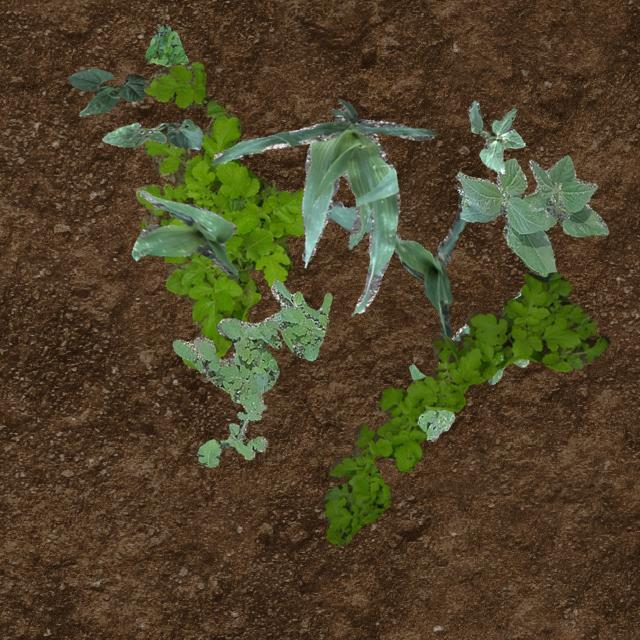crop: (208, 99, 434, 312), (326, 185, 466, 336), (454, 154, 608, 276), (130, 188, 237, 276), (468, 100, 524, 174), (66, 68, 146, 116), (450, 290, 520, 340), (100, 118, 202, 148)
weed: (322, 270, 608, 544), (134, 60, 304, 368), (172, 278, 332, 402), (194, 392, 266, 467), (408, 364, 454, 441), (144, 24, 188, 66), (488, 358, 528, 383)
